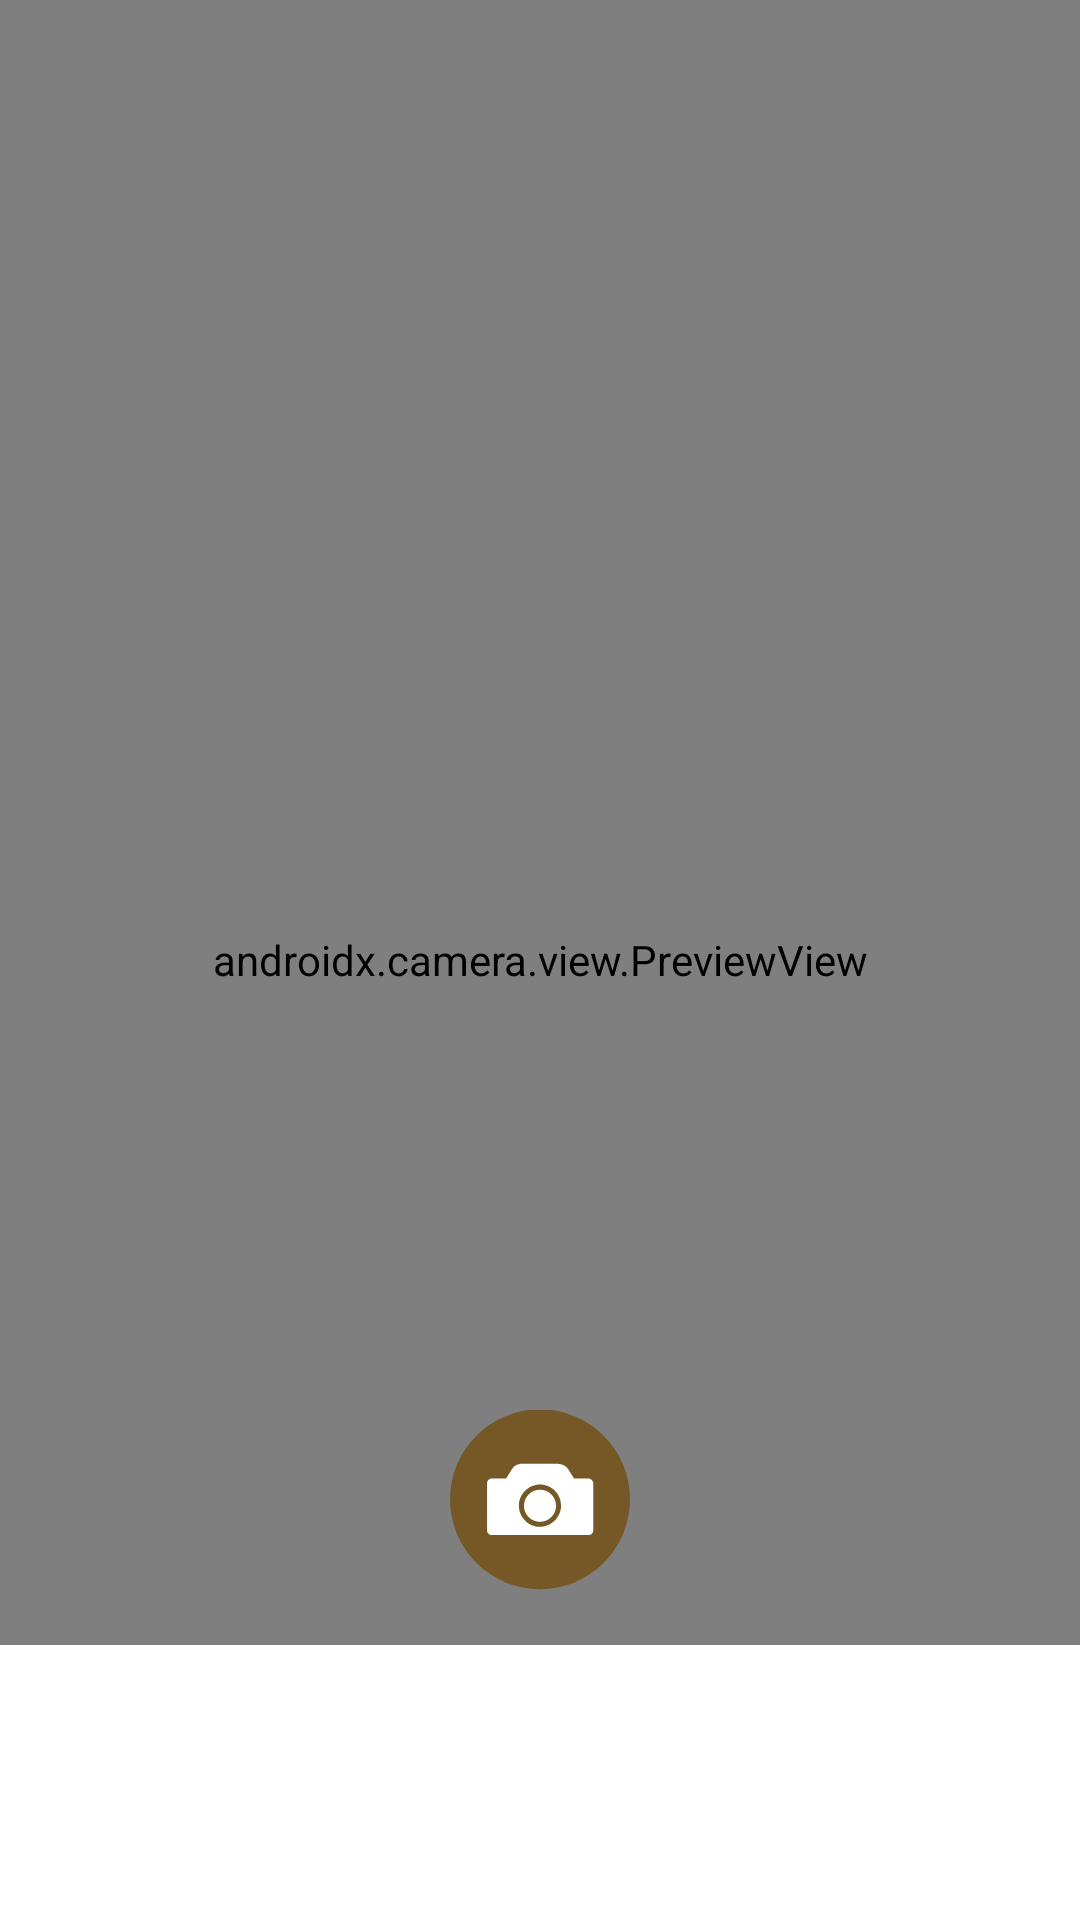

Icon click points for this 1080px x 1920px phone screenshot, format point (x, y):
capture: point (540, 1499)
